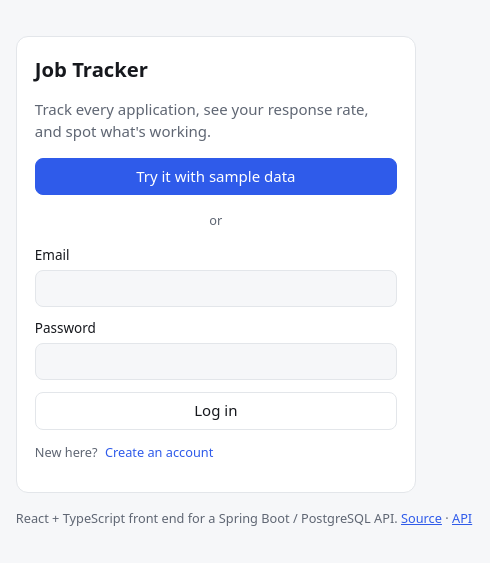
Test: Job Tracker › shows a friendly error for a taken email and a wrong password
Type "eren@example.com" into the field labelled "Email" at x=216, y=288, box [35,270,397,307]
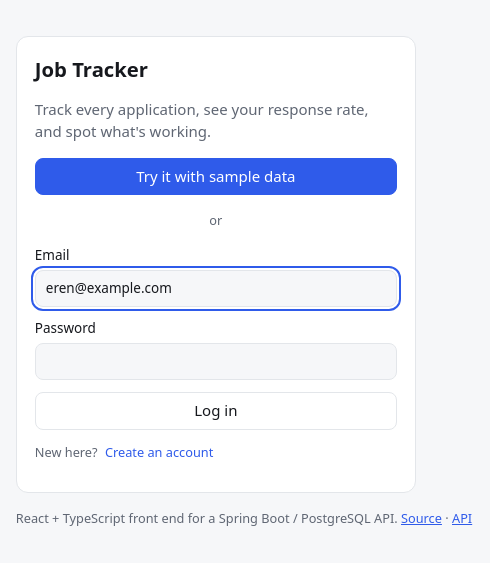
Type "wrong-password" into the password field labelled "Password" at x=216, y=361, box [35,343,397,380]
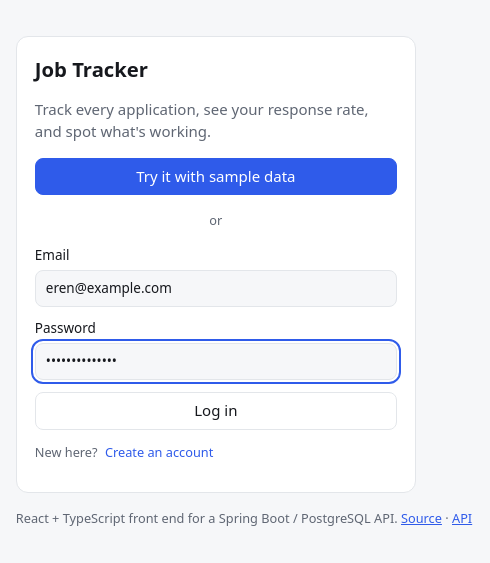
Click the button "Log in" at x=216, y=411, box [35,392,397,430]
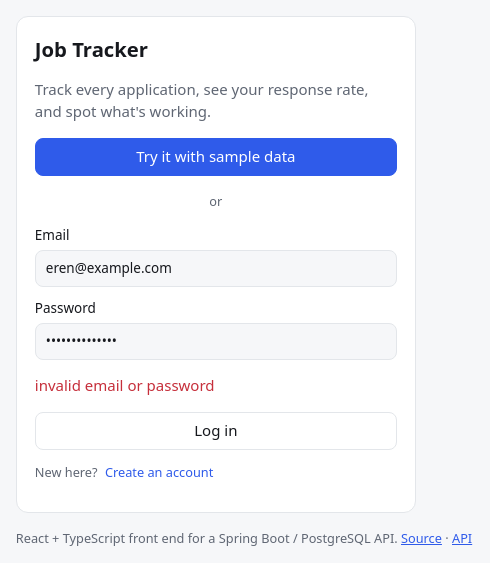
Now the message reads "invalid email or password", box [35,375,215,395]
Click the button "Create an account" at x=159, y=472, box [101,463,217,481]
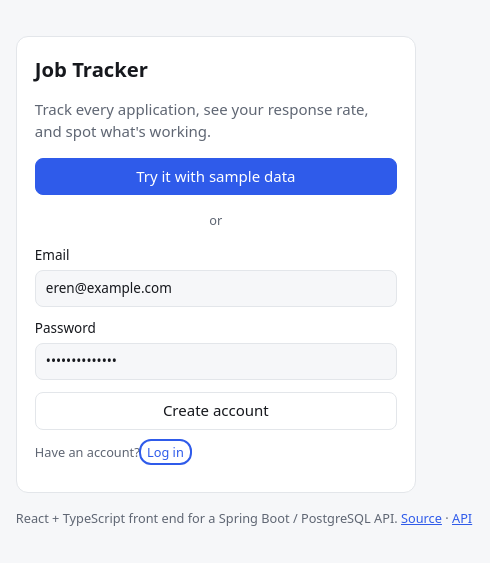
Click the button "Create account" at x=216, y=411, box [35,392,397,430]
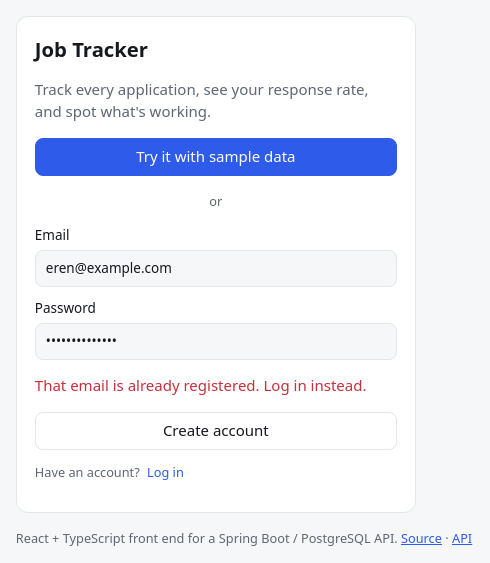
Now the message shows "already registered", box [35,375,366,395]
